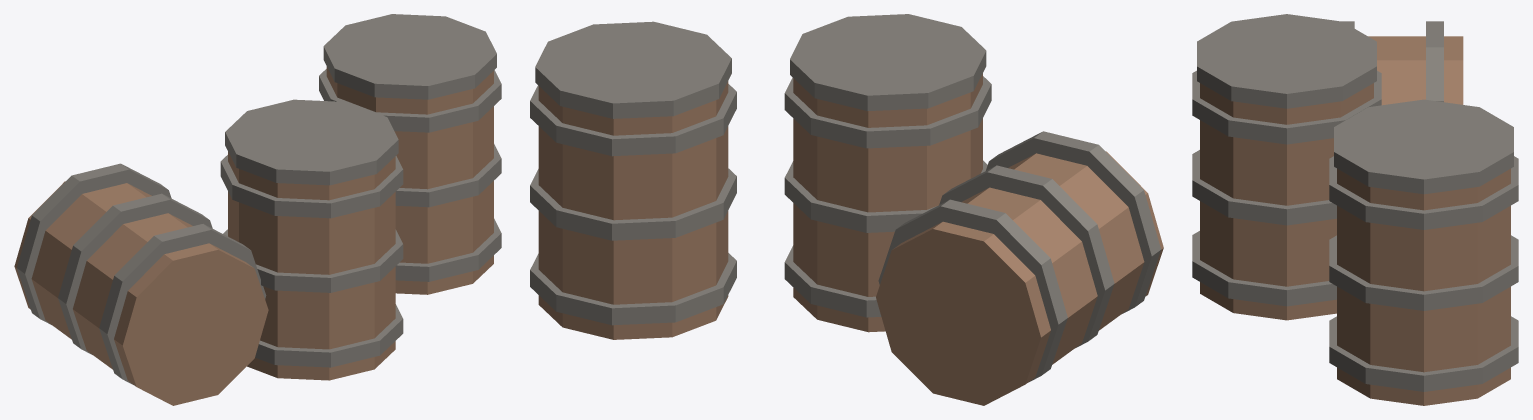
File: barrel_cluster.glb
3 renders of one model, left to right at view 1: azimuth 30°, elevation 25°; view 2: azimuth 150°, elevation 25°; view 3: azimuth 270°, elevation 25°, orthographic. The views are drawn at different scales.
Parts seen in each view (by area): view 1: b03_body, b01_body, b02_body, b01_lid, b02_lid, b03_ring2, b03_ring0, b03_ring1, b01_ring2, b01_ring0, b01_ring1, b02_ring2 (+2 smaller); view 2: b03_body, b02_body, b01_body, b01_lid, b02_lid, b03_ring0, b03_ring1, b03_ring2, b01_ring2, b02_ring0, b02_ring1, b02_ring2 (+2 smaller); view 3: b02_body, b01_body, b01_lid, b02_lid, b03_body, b02_ring1, b02_ring0, b02_ring2, b01_ring2, b01_ring0, b01_ring1, b03_ring0.
Part boxes in pixels (x1,y1,x2,y2): b03_body: (14,181,268,405); b01_body: (228,151,395,380); b02_body: (326,66,493,294); b01_lid: (225,99,398,185); b02_lid: (323,14,496,99); b03_ring2: (99,224,266,384); b03_ring0: (17,163,171,324); b03_ring1: (58,193,212,354); b01_ring2: (220,155,403,218); b01_ring0: (255,304,403,367); b01_ring1: (223,229,403,292); b02_ring2: (319,69,501,132); b03_body: (876,151,1163,405); b02_body: (538,81,728,339); b01_body: (793,73,982,332); b01_lid: (790,14,986,110); b02_lid: (535,21,731,118); b03_ring0: (878,199,1067,382); b03_ring1: (939,165,1114,347); b03_ring2: (986,131,1160,313); b01_ring2: (784,76,991,148); b02_ring0: (530,253,736,325); b02_ring1: (530,168,736,240); b02_ring2: (530,84,736,156); b02_body: (1337,168,1510,405); b01_body: (1200,83,1373,320); b01_lid: (1197,14,1376,108); b02_lid: (1334,99,1513,194); b03_body: (1368,36,1463,105); b02_ring1: (1329,235,1518,310); b02_ring0: (1329,316,1518,391); b02_ring2: (1329,156,1518,229); b01_ring2: (1192,70,1381,144); b01_ring0: (1192,231,1336,306); b01_ring1: (1192,150,1336,225); b03_ring0: (1426,21,1443,102).
Bounding box in the file's own units: 1.78 × 0.77 × 1.
